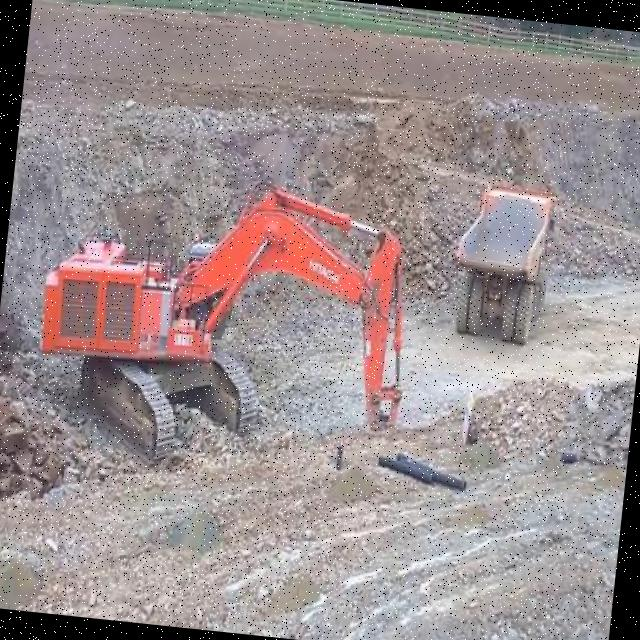Dump Truck: (448, 180, 556, 345)
Excavator: (25, 159, 422, 491)
